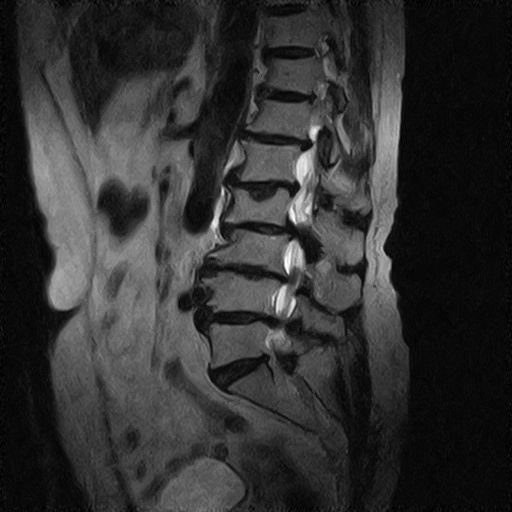L1,v2: (241, 149, 292, 178)
L1-L2,v3: (236, 175, 287, 204)
L1-L2,v5: (236, 175, 287, 204)
L2,v2: (232, 196, 283, 225)
L2-L3,v3: (232, 213, 283, 242)
L3,v2: (229, 234, 280, 263)
L3-L4,v2: (222, 256, 273, 285)
L3-L4,v5: (222, 256, 273, 285)
L4,v2: (215, 279, 266, 308)
L4-L5,v3: (214, 303, 265, 332)
L5,v2: (212, 328, 263, 357)
L5-S1,v3: (215, 352, 266, 381)
T12-L1,v3: (246, 125, 297, 154)
